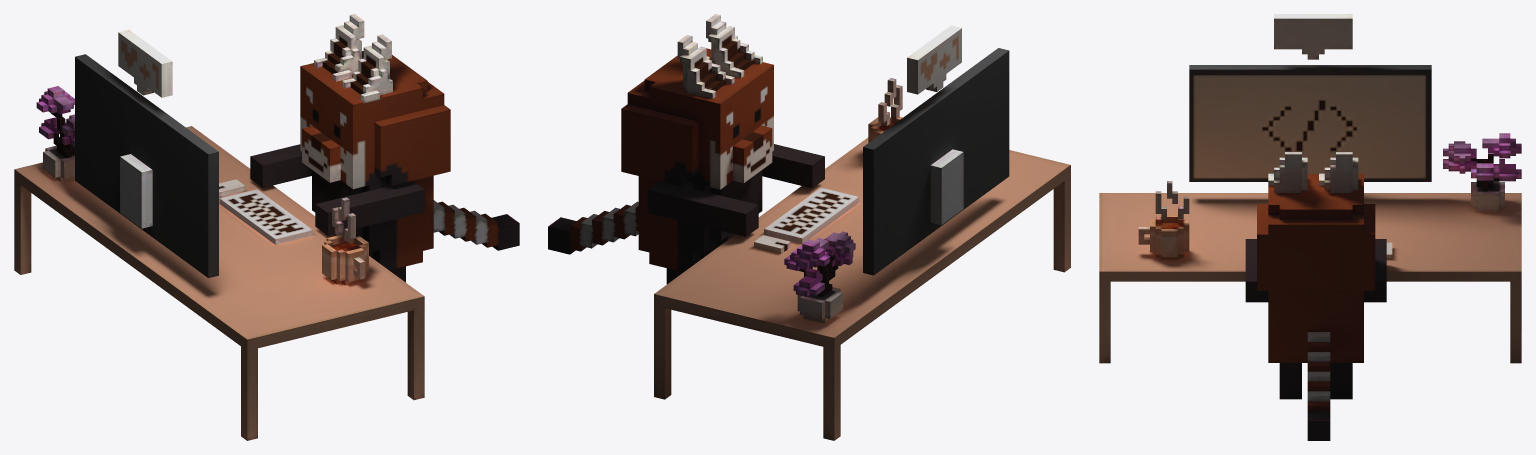
File: pawdaa.glb
3 renders of one model, left to right at view 1: azimuth 30°, elevation 25°; view 2: azimuth 150°, elevation 25°; view 3: azimuth 270°, elevation 25°, orthographic. The views are drawn at different scales.
Parts seen in each view (by area): view 1: Untitled; view 2: Untitled; view 3: Untitled.
Part boxes in pixels (<box>): Untitled: <box>14,14,519,440</box>; Untitled: <box>548,14,1070,440</box>; Untitled: <box>1099,14,1521,440</box>.
Size of what is drawn, in the model's own units: 7.2 by 5.4 by 7.5.
Materials: 1 (1 with a texture image).
